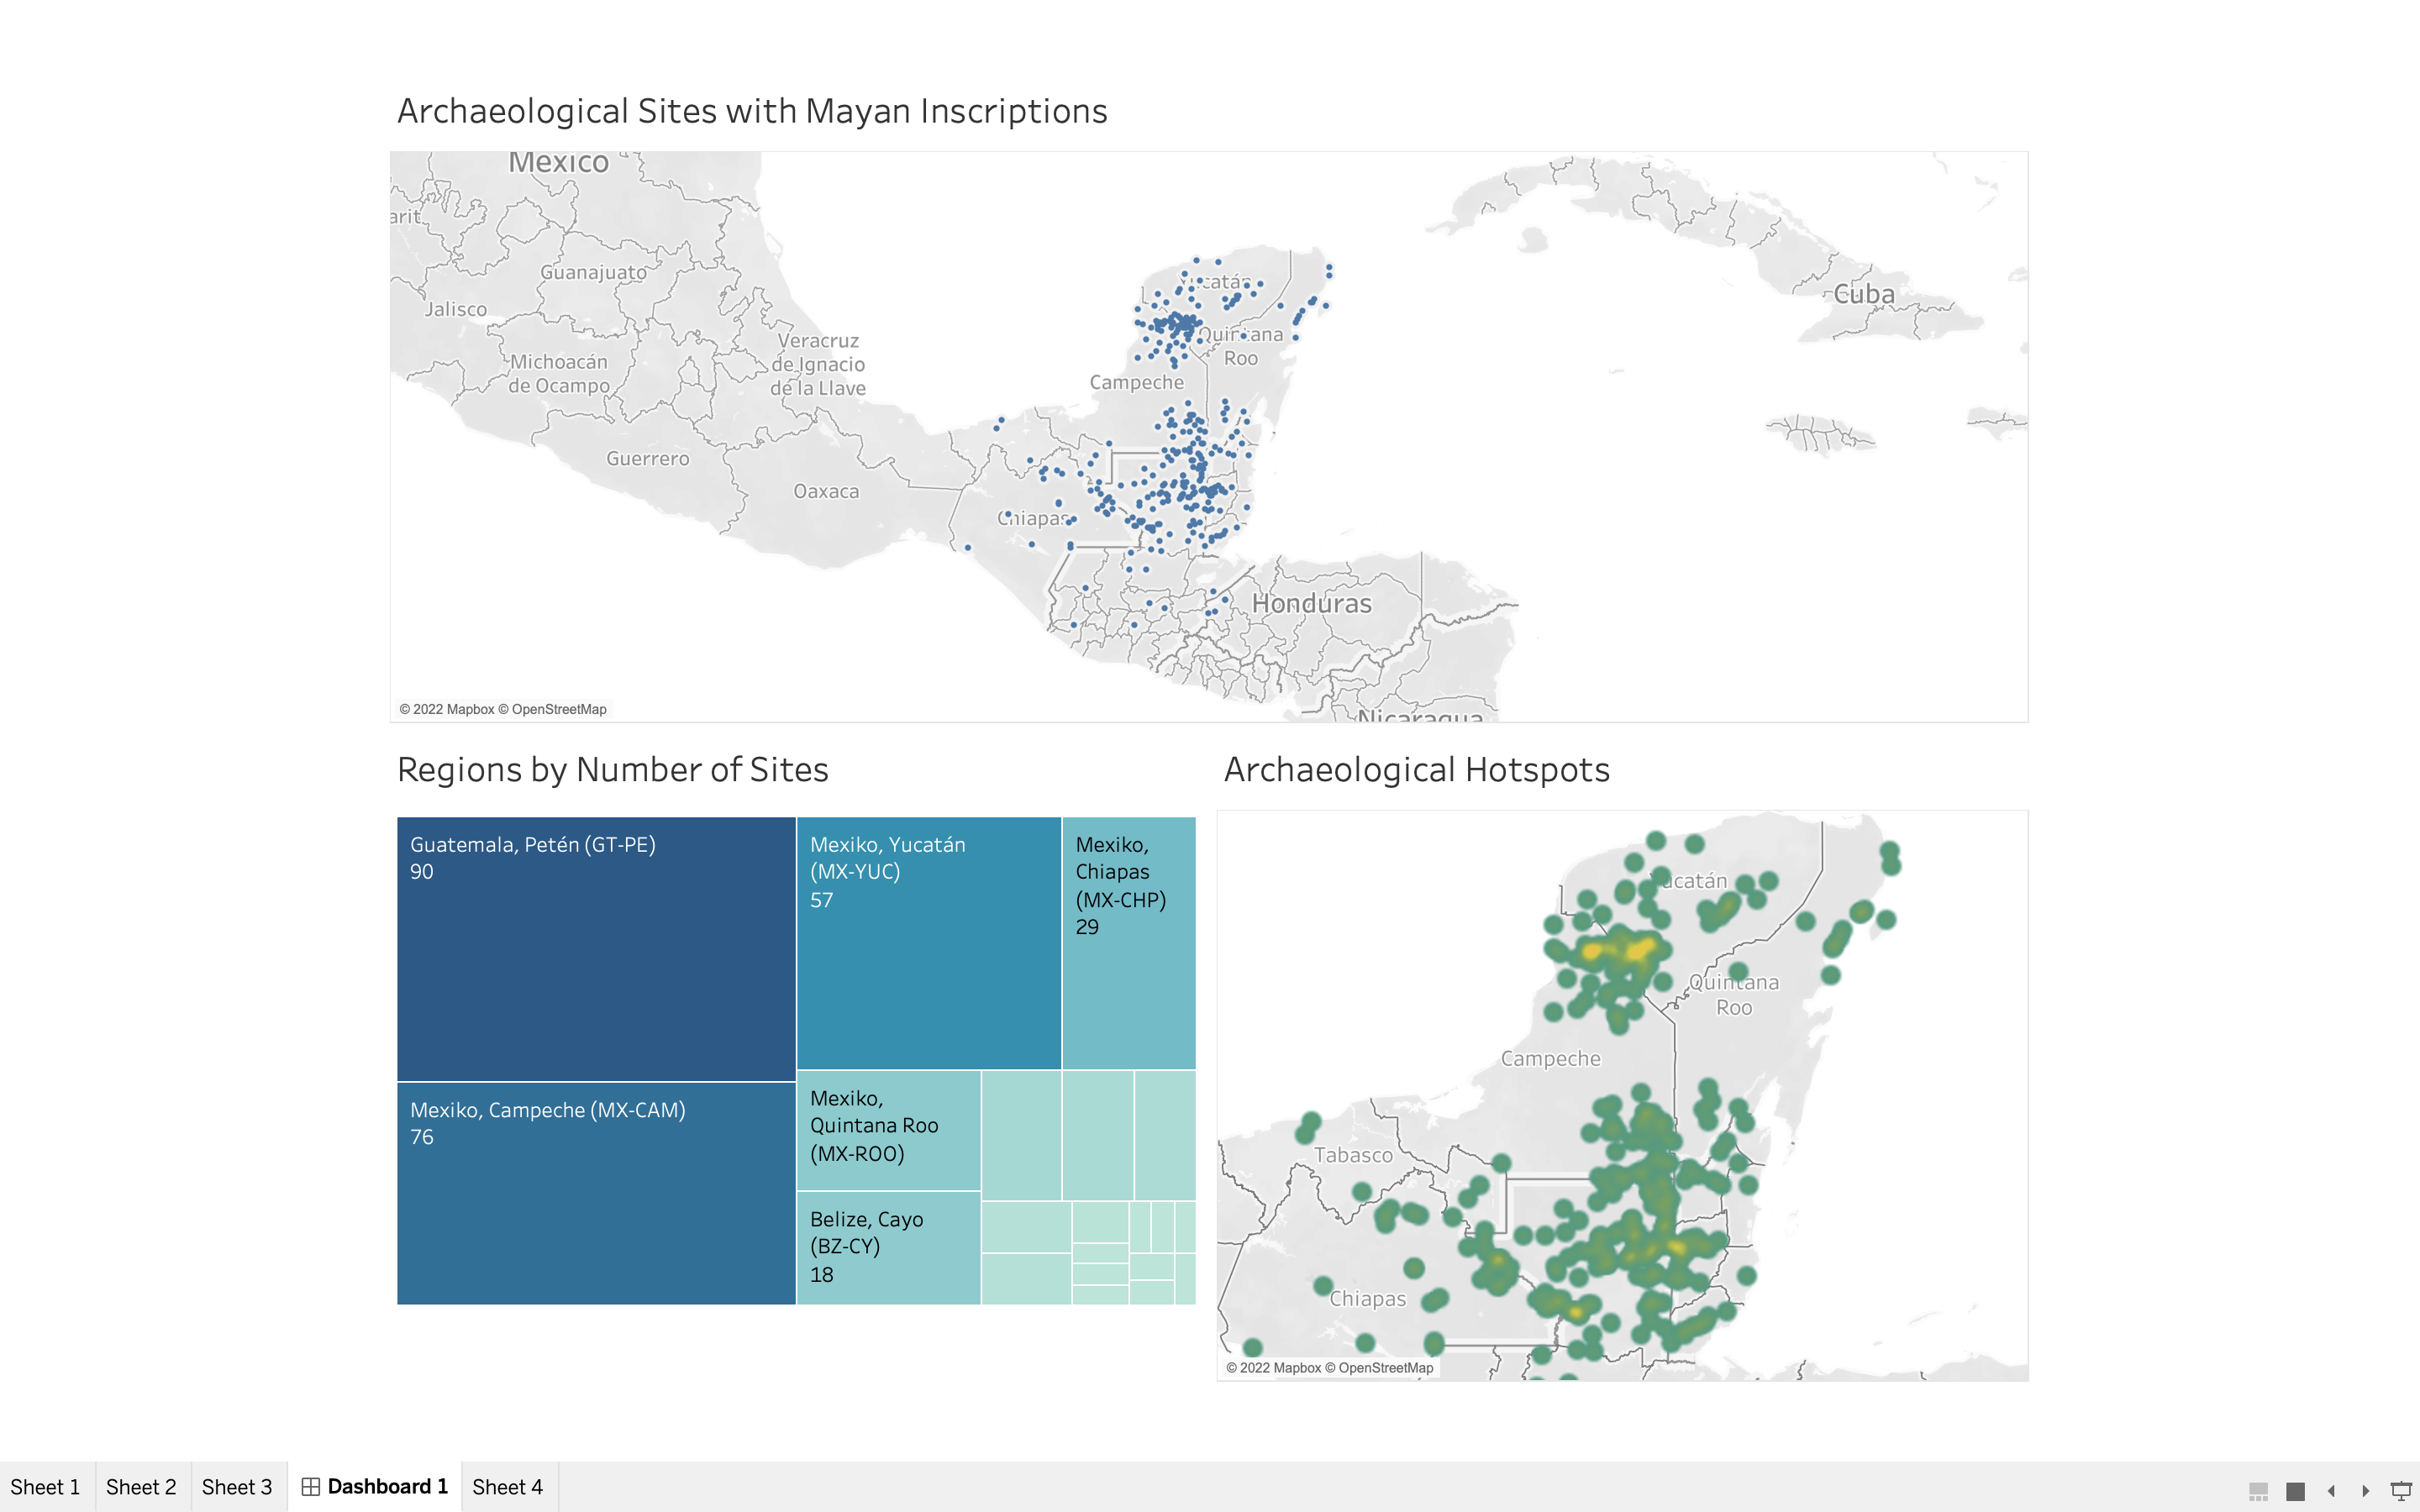

What the dashboard file says about the page in this screenshot:
{"tool":"tableau","page":{"name":"Dashboard 1","canvas":[1000,800],"ordinal":0},"visuals":[{"type":"worksheet","title":"Sheet 1","mark":"Circle","rows":["Latitude"],"cols":["Longitude"],"box":[8,8,984,392]},{"type":"worksheet","title":"Sheet 3","mark":"Automatic","box":[8,400,492,392]},{"type":"worksheet","title":"Sheet 2","mark":"Heatmap","rows":["Latitude"],"cols":["Longitude"],"box":[500,400,492,392]}]}

Visuals, with their boxes on the page's 1000x800 design canvas (x1, y1, x2, y2). These are canvas units, not pixel positions in the 2420x1512 screenshot, which may show the page scaled, cropped or inside an application window:
"Sheet 1" worksheet (Circle marks): (8,8,992,400)
"Sheet 3" worksheet: (8,400,500,792)
"Sheet 2" worksheet (Heatmap marks): (500,400,992,792)
